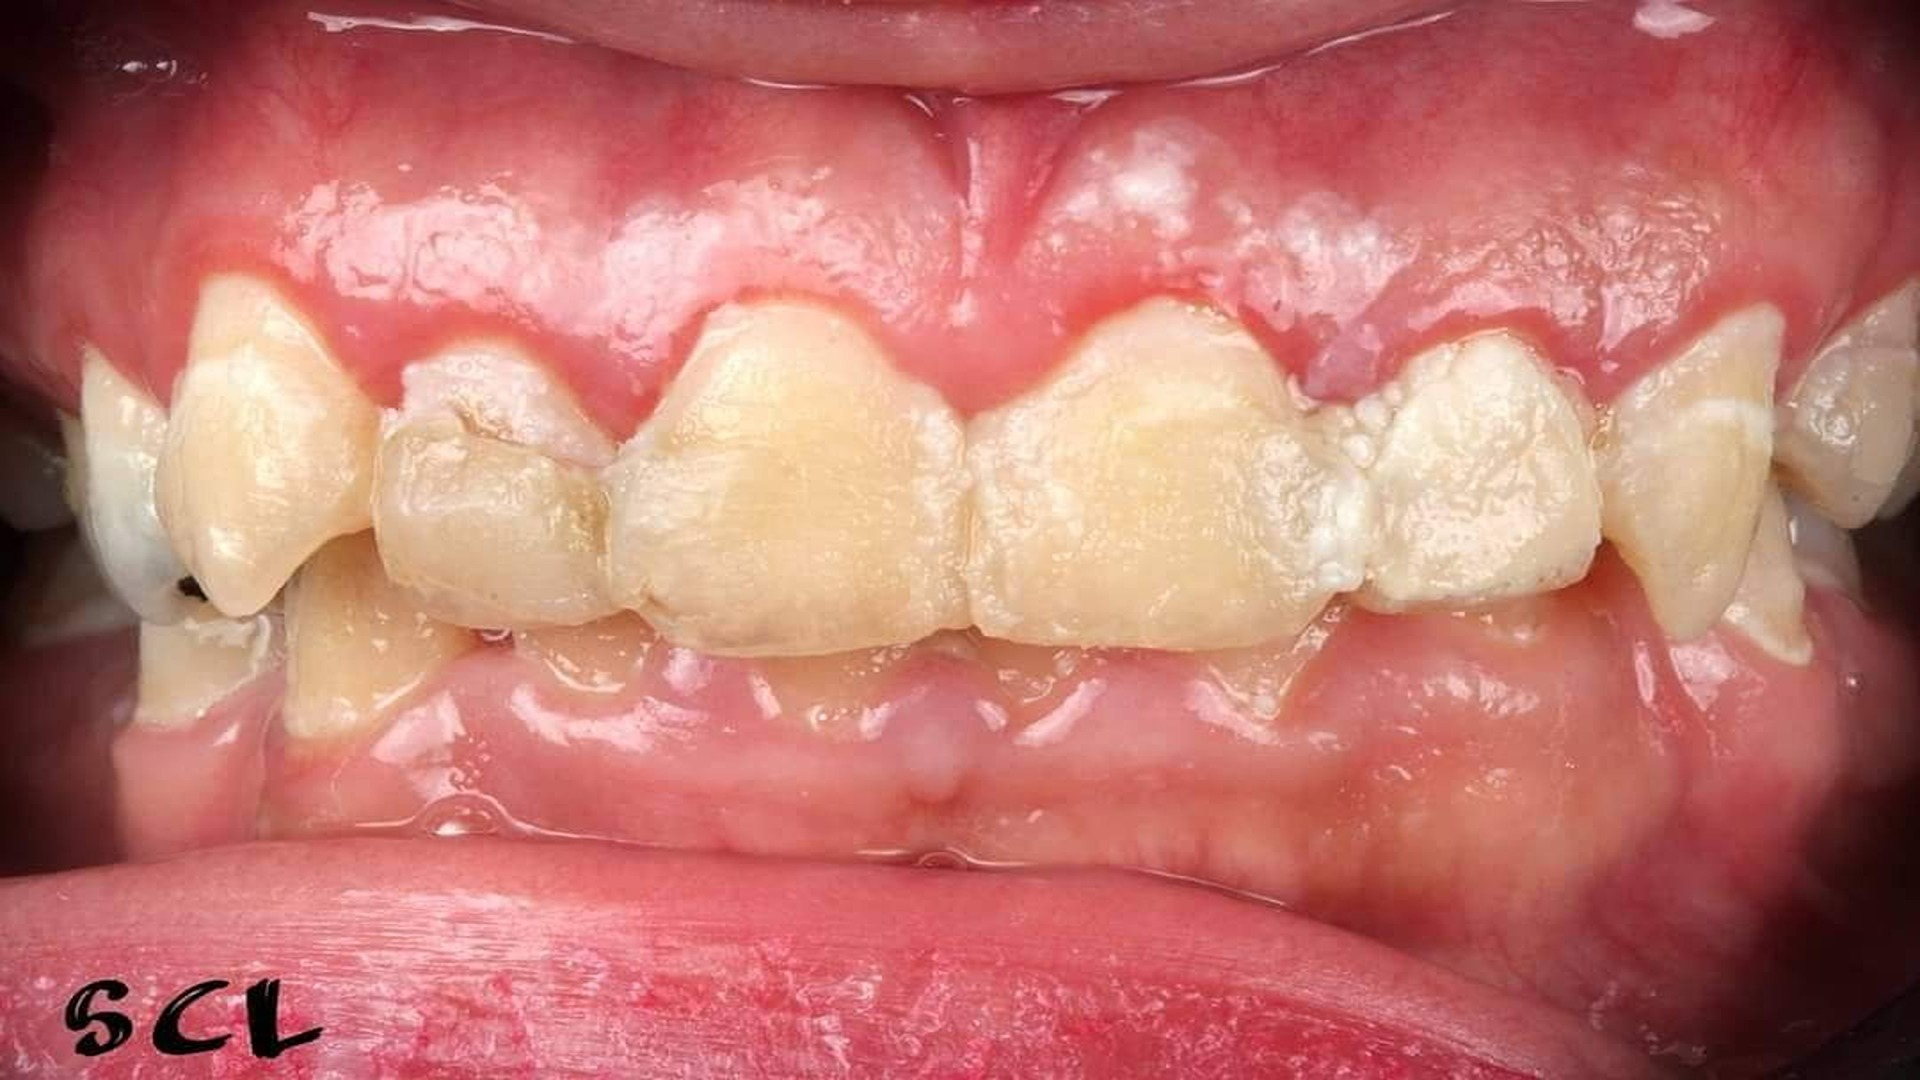tooth: (603, 293, 972, 659), (971, 295, 1337, 649), (154, 272, 382, 617), (371, 342, 625, 630), (1364, 331, 1604, 605), (1598, 302, 1785, 644), (284, 529, 483, 740), (76, 342, 204, 624), (1793, 276, 1917, 529)
